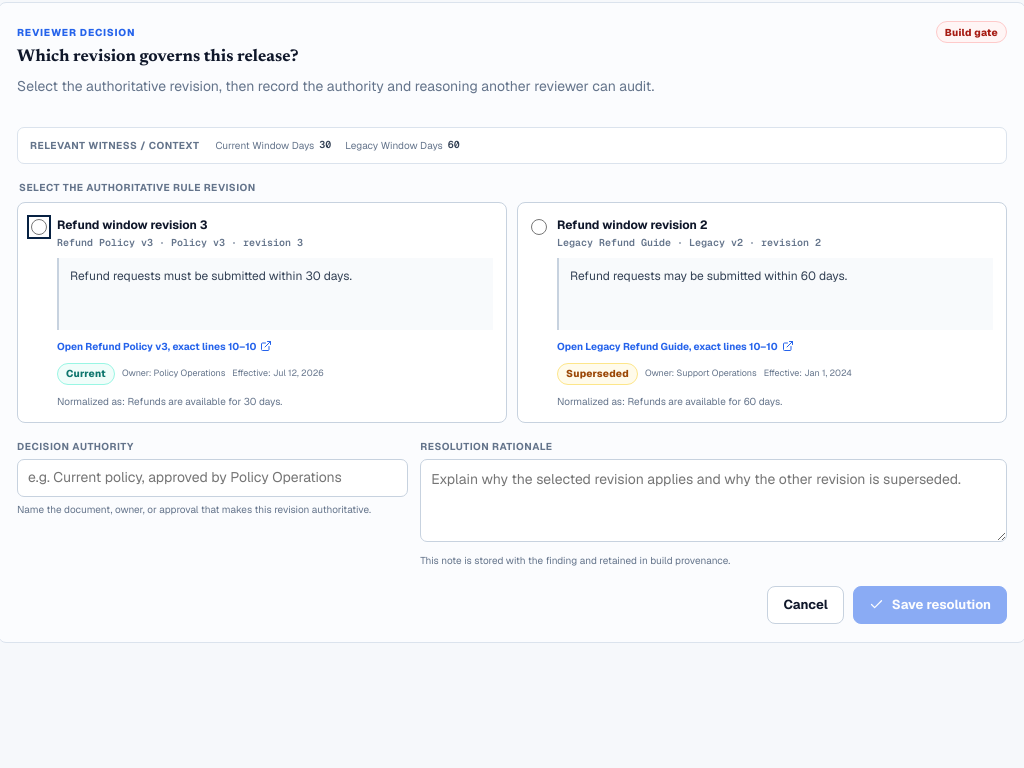
conflict resolution review › shows source authority, witness context, exact line links, and the winner/loser consequence
This screenshot has width=1024, height=768.
Expected: the text "Policy Operations" is shown, [154,367,225,379]
Expected: the text "Superseded" is shown, [557,362,638,384]
What coordinates should you click on to do the following:
click the radio button labelled "Refund Policy v3 · Policy v3 · revision 3"
I would click on:
 (39, 226)
Its box is [31,218,47,234].
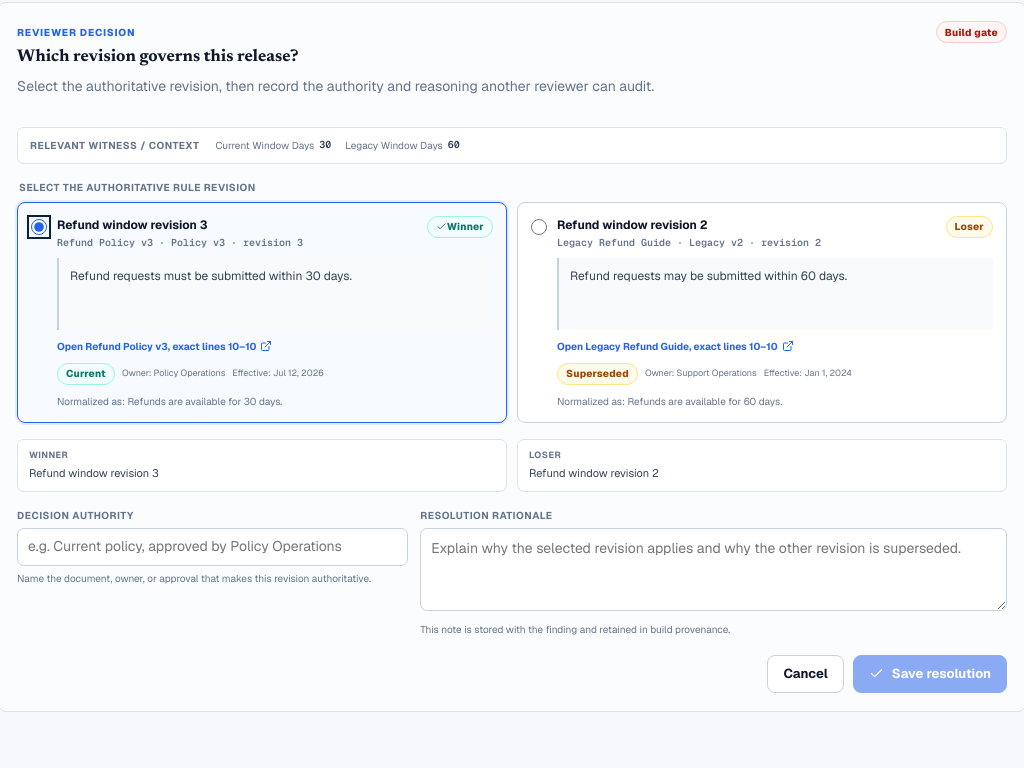
Now the text "Winner" is shown, box [427,216,493,238]
Now the 1st text "Loser" is shown, box [946,216,993,238]
